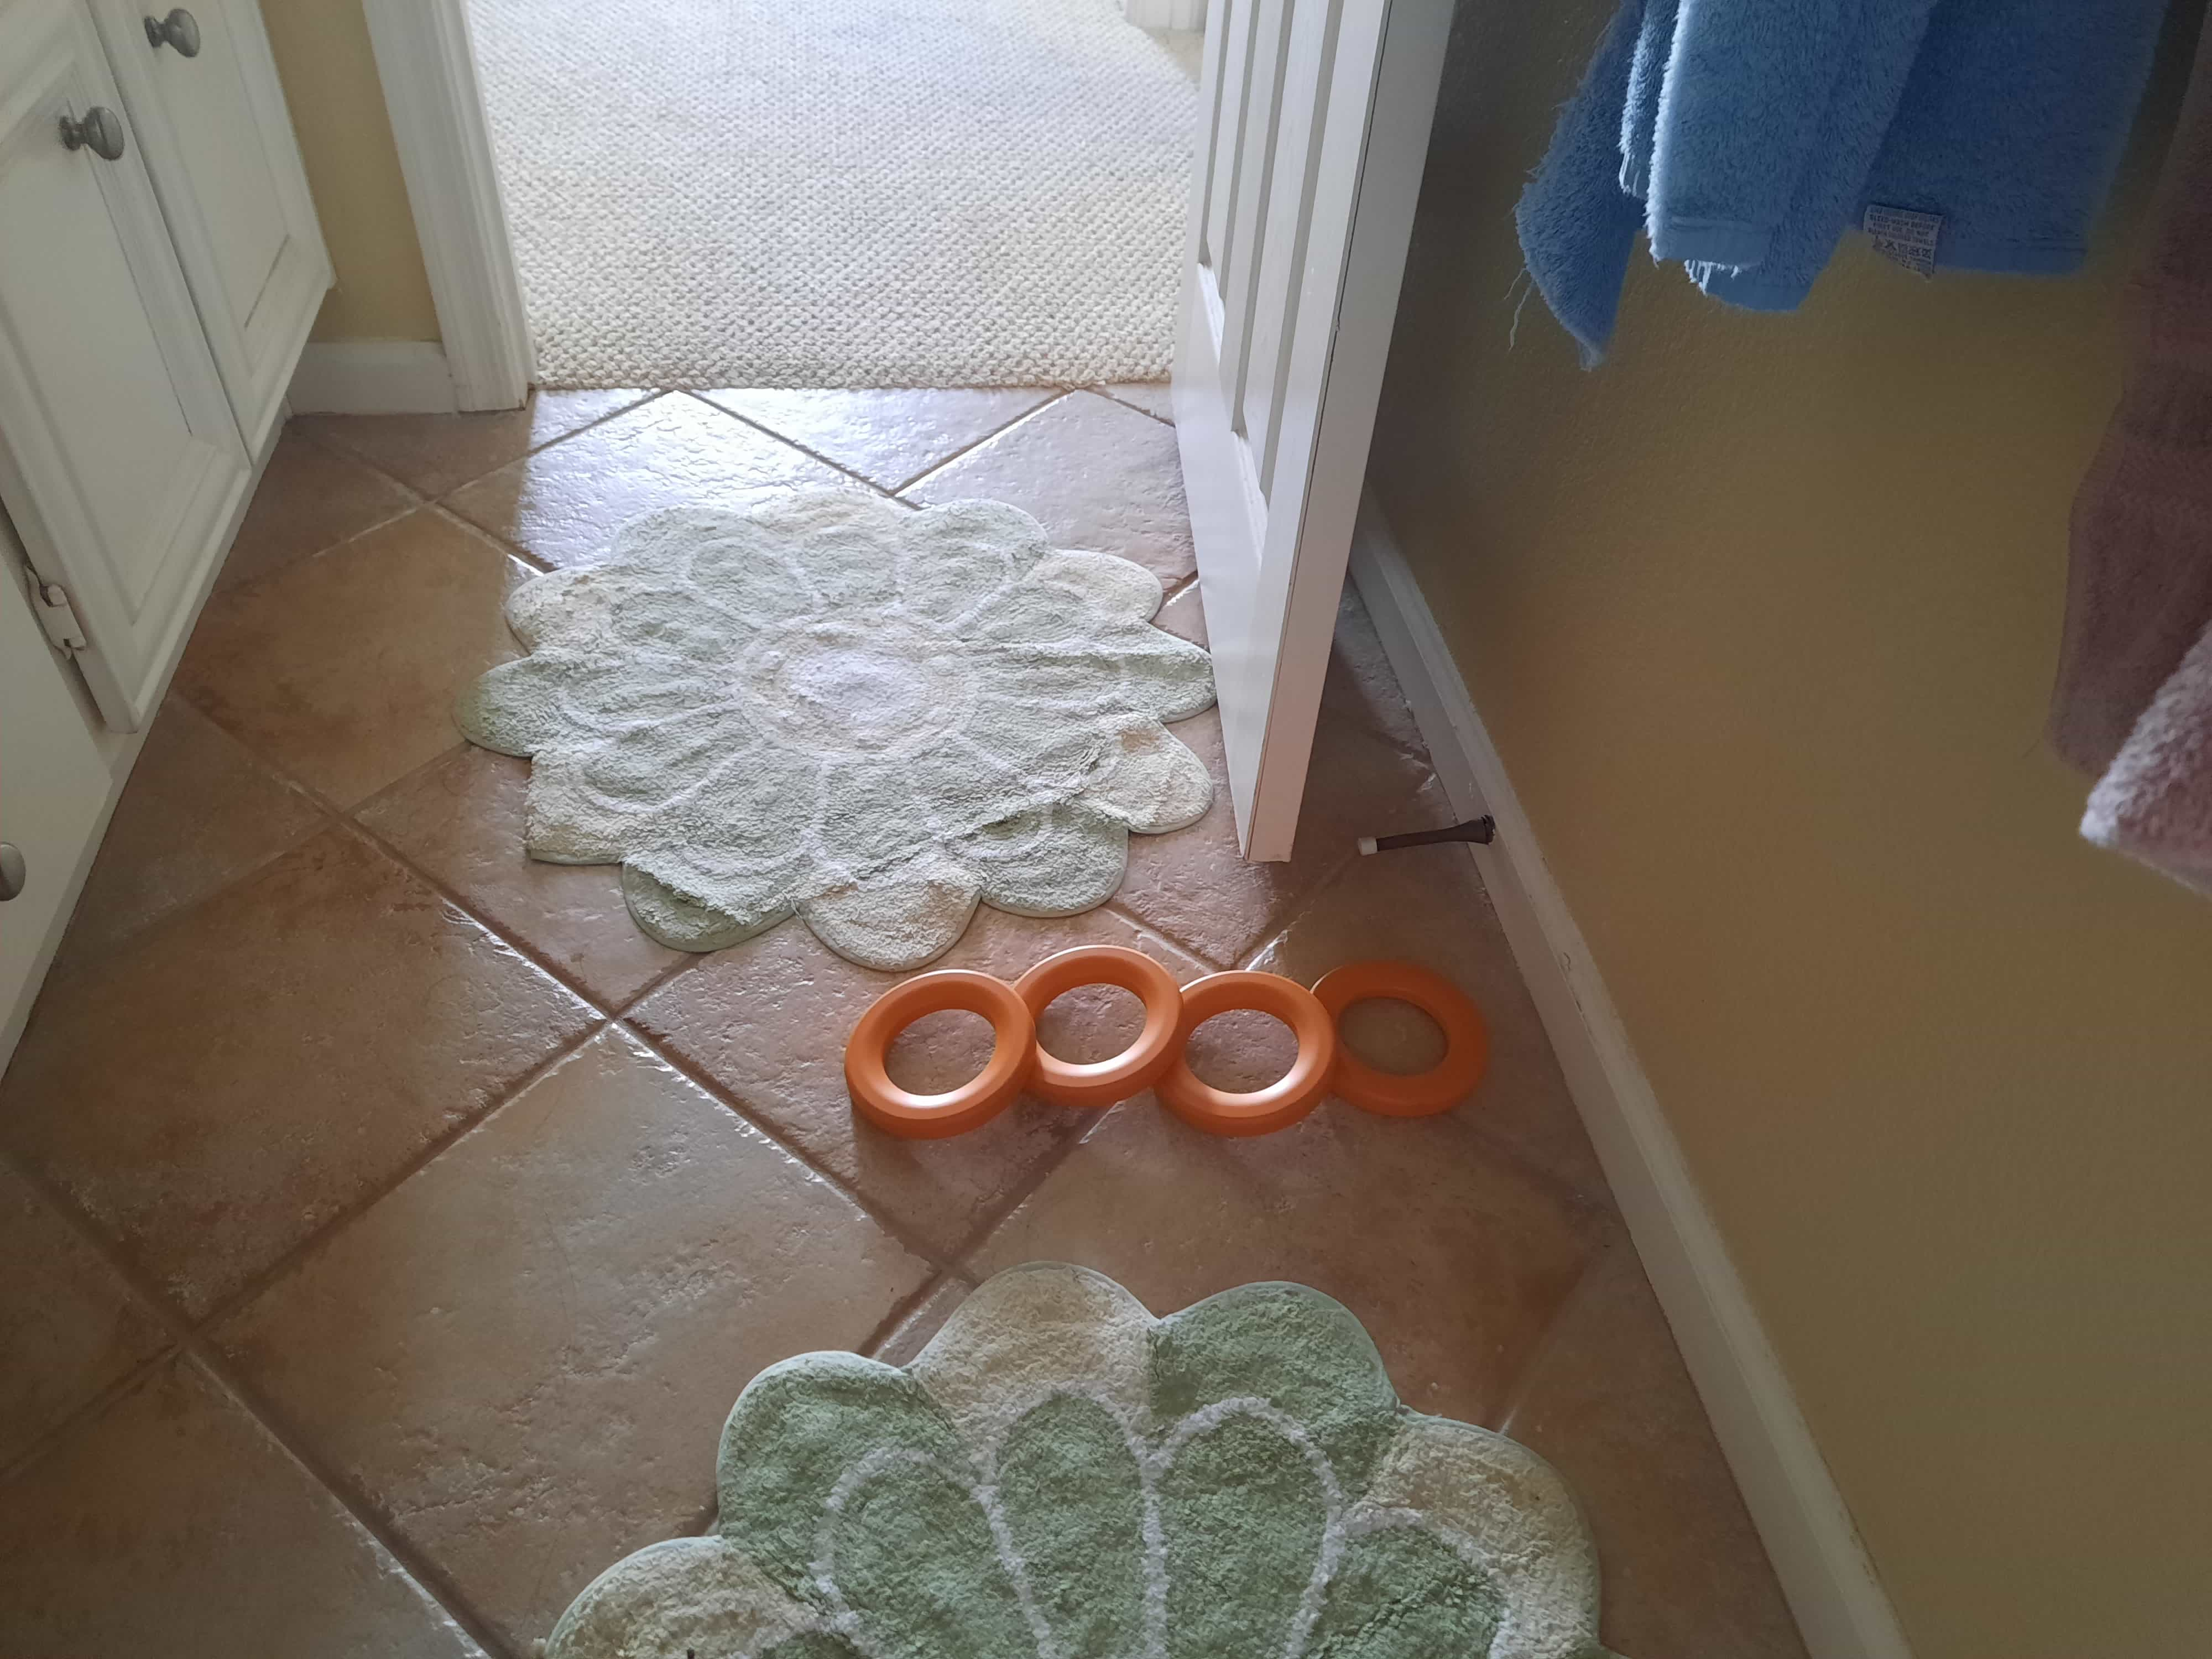OneStack: (1312, 962, 1491, 1124), (843, 976, 1033, 1121), (1165, 976, 1331, 1131), (1015, 946, 1181, 1098)
